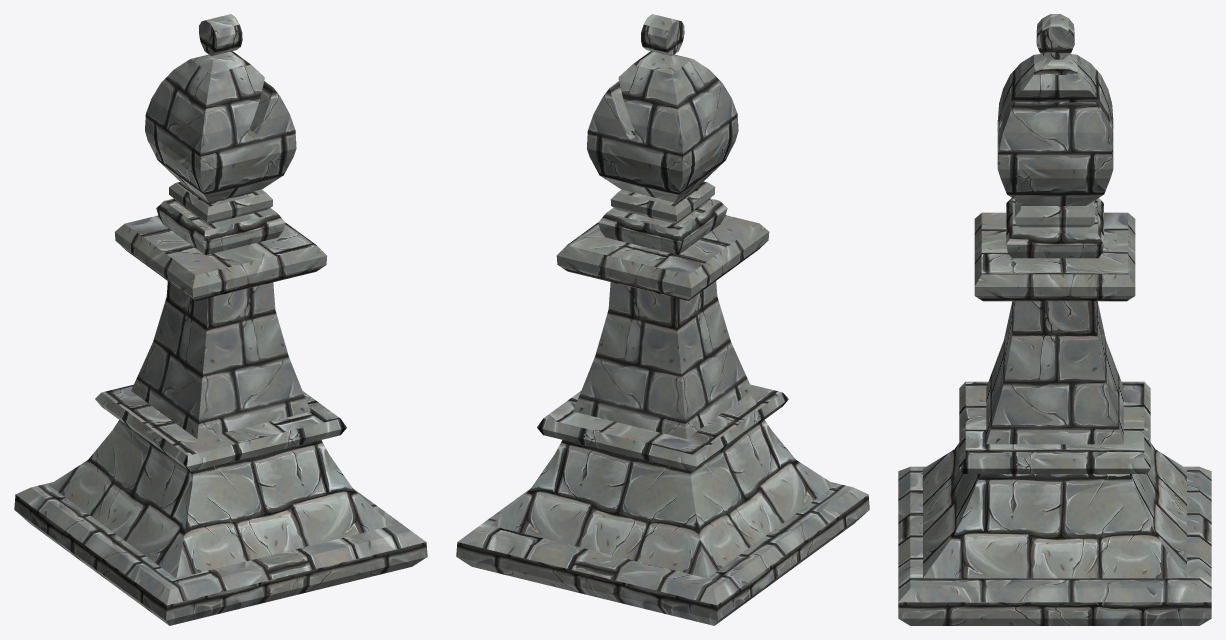
File: Base Bishop.obj
The picture shows the model from 3 angles, left to right: view 1: azimuth 30°, elevation 25°; view 2: azimuth 150°, elevation 25°; view 3: azimuth 270°, elevation 25°; orthographic projection. The views are drawn at different scales.
Visible parts, largest first — view 1: [MESH]_Bishop_Cube; view 2: [MESH]_Bishop_Cube; view 3: [MESH]_Bishop_Cube.
Part boxes in pixels (left/top/right/bottom): [MESH]_Bishop_Cube: left=14, top=14, right=427, bottom=625; [MESH]_Bishop_Cube: left=456, top=14, right=869, bottom=625; [MESH]_Bishop_Cube: left=898, top=14, right=1211, bottom=625.
Bounding box in the file's own units: 0.8571 × 1.65 × 0.859.
